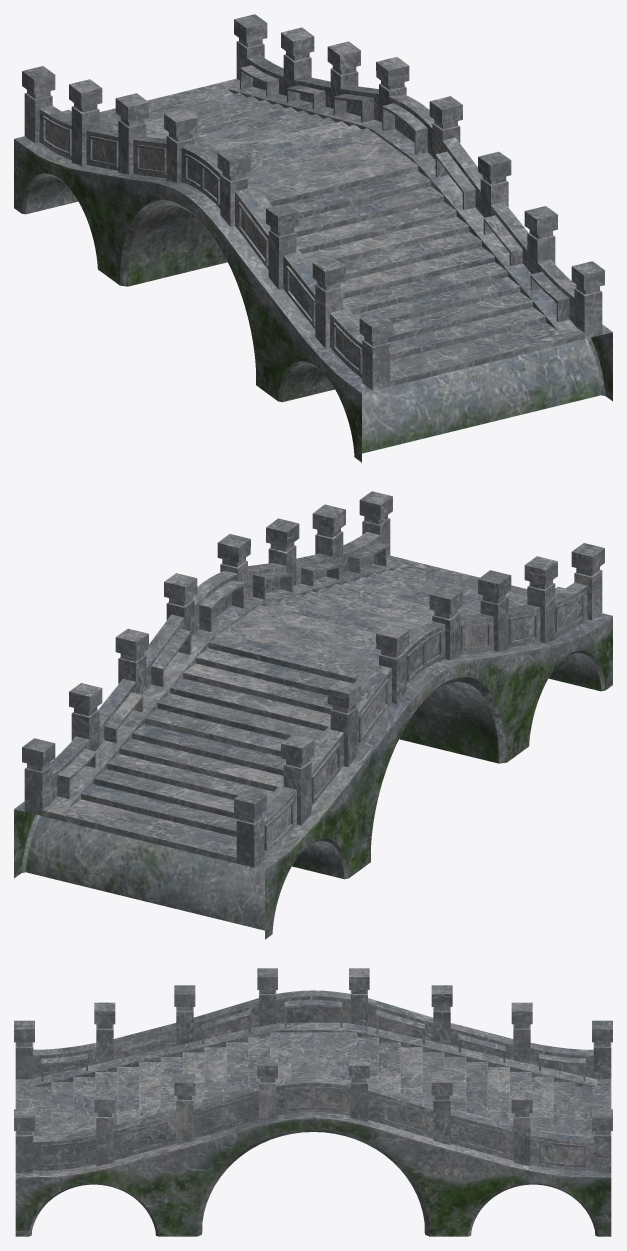
Rendered from canal_bridge.glb.
The picture shows the model from 3 angles, top to bottom: view 1: azimuth 30°, elevation 25°; view 2: azimuth 150°, elevation 25°; view 3: azimuth 270°, elevation 25°; orthographic projection. The views are drawn at different scales.
Visible parts, largest first — view 1: LOD0; view 2: LOD0; view 3: LOD0.
Boxes of the visible parts, x1=… form: LOD0: x1=14, y1=14, x2=612, y2=462; LOD0: x1=14, y1=491, x2=612, y2=939; LOD0: x1=14, y1=968, x2=612, y2=1236.
Size of what is drawn, in the model's own units: 5.69 by 4.23 by 13.73.
1 material, 1 textured.
